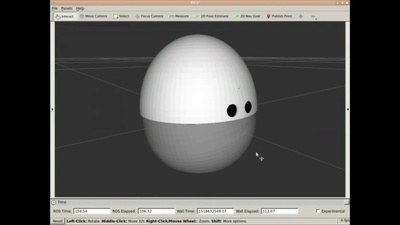mira_robot: (140, 34, 258, 173)
